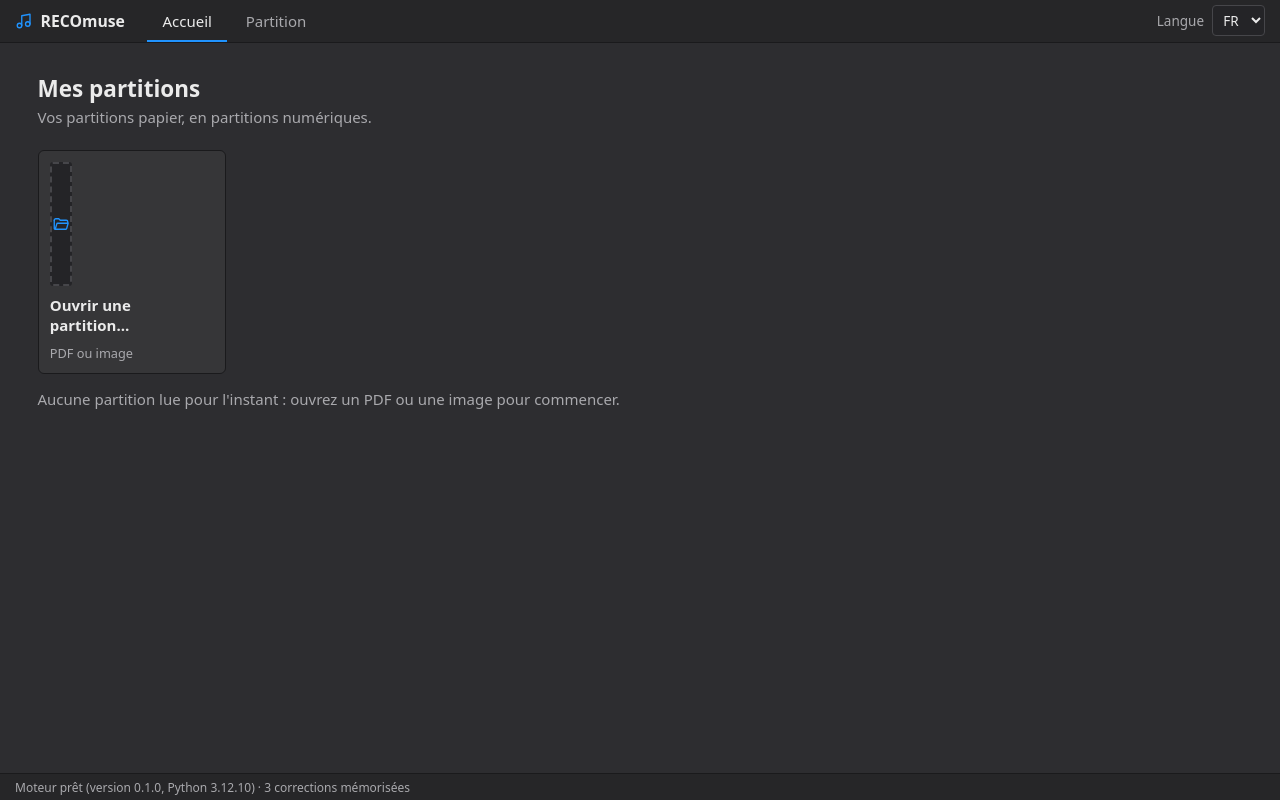
Test: App › annonce les parties trouvées dans un PDF groupé
Expected: the text "Moteur prêt (version 0.1.0, Python 3.12.10) · 3 corrections mémorisées" is shown, x1=0 y1=773 x2=1279 y2=799
Click the button "Ouvrir une partition… PDF ou image".
click(132, 262)  # box x1=38 y1=150 x2=226 y2=374
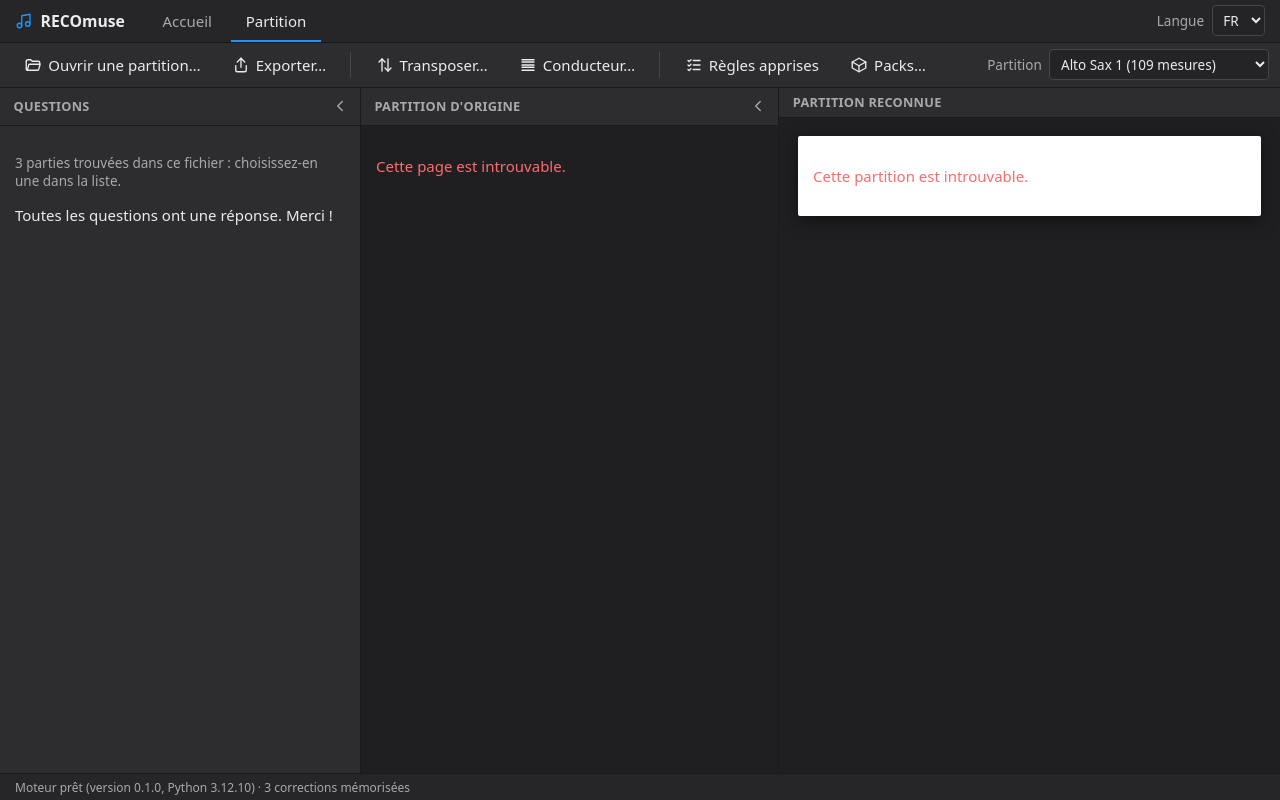
Result: the text "3 parties trouvées dans ce fichier" is shown at x1=15 y1=154 x2=318 y2=190
